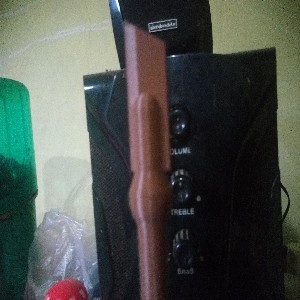cutter: (122, 18, 173, 300)
